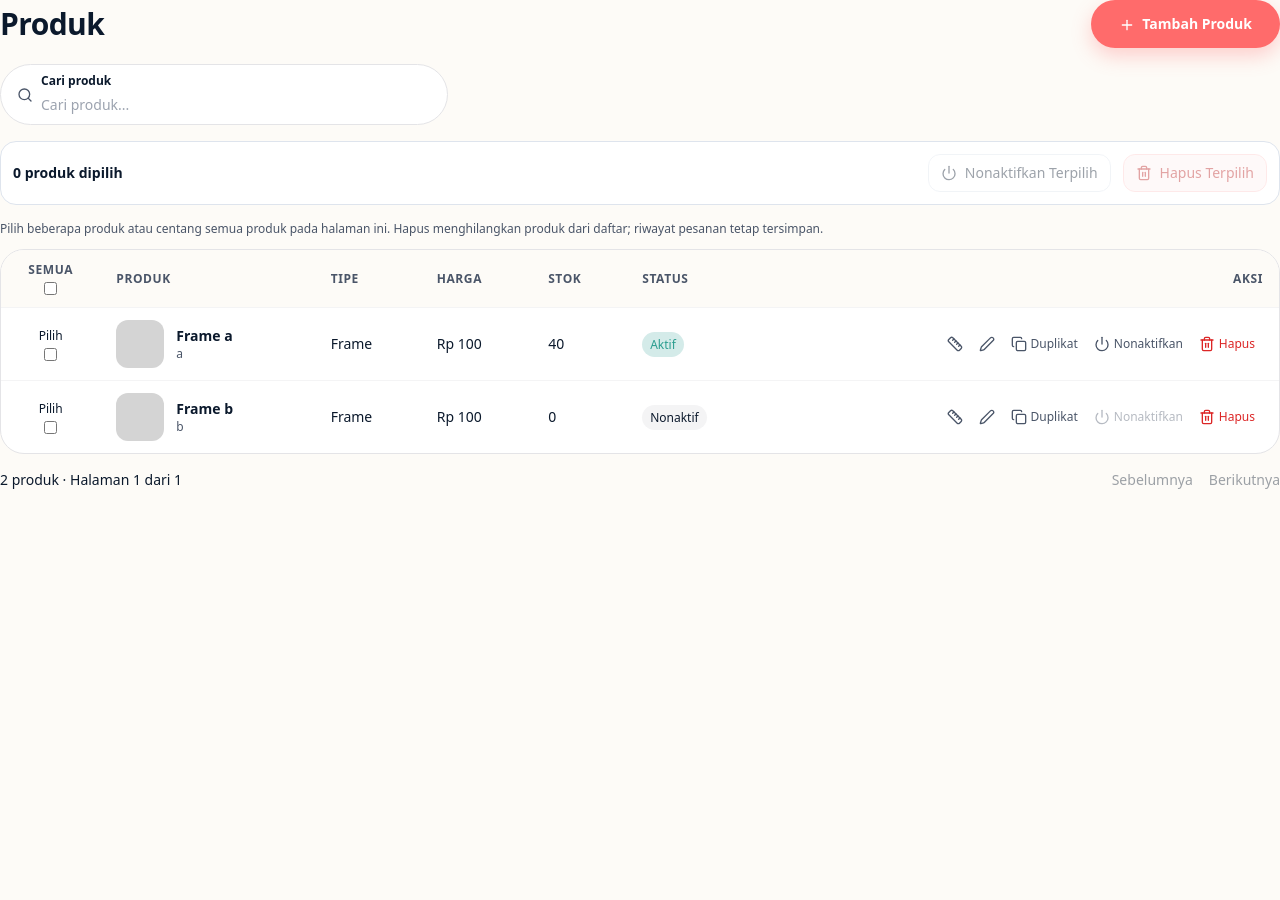
Test case: inactive variants are identified and can be activated without changing their SKU or stock
Later steps or results of the test are not shown.
Step 1. Click the button with test id "edit-a" → (986, 344), box [970, 328, 1002, 360]
(page scrolled)
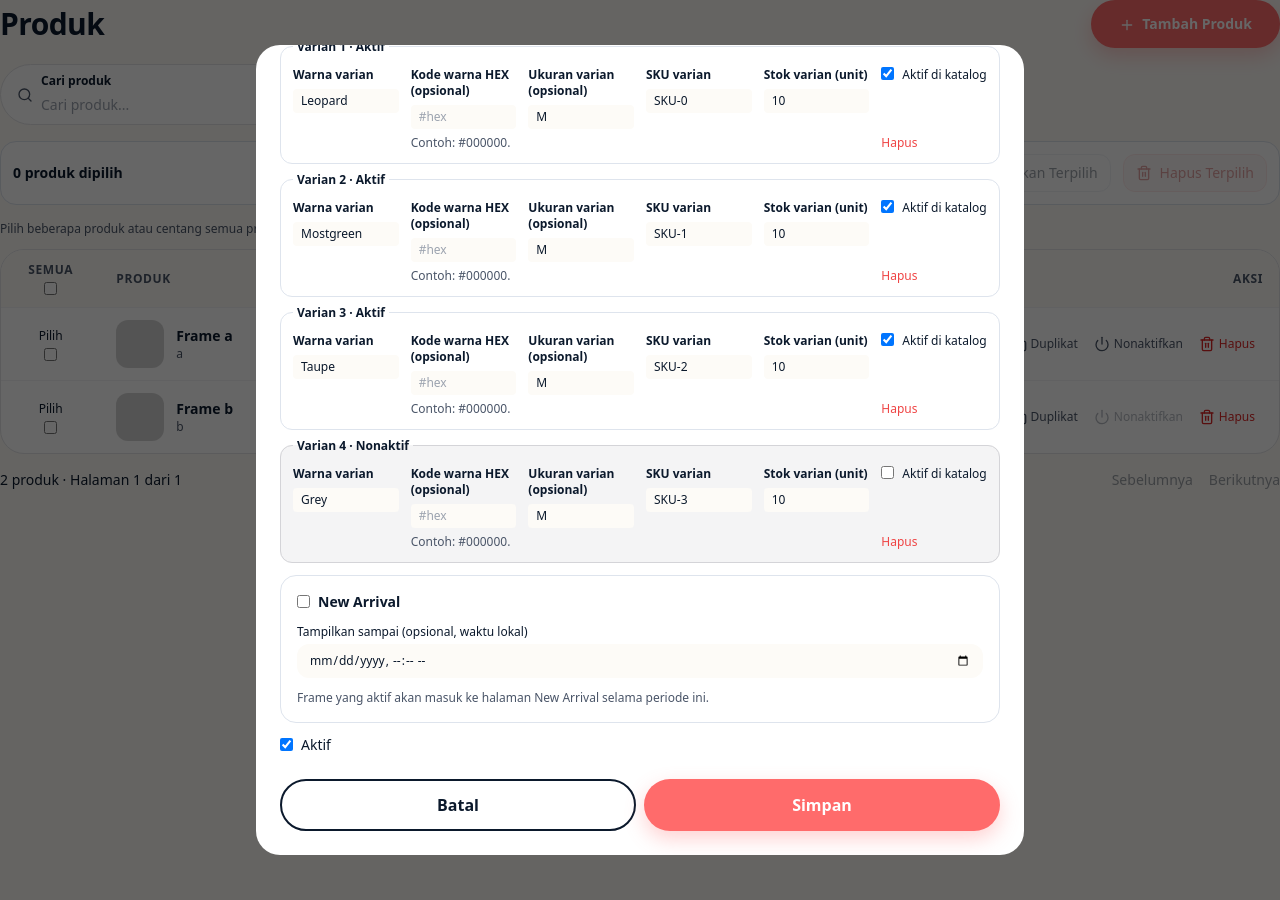
Now the text "Varian 4 · Nonaktif" is shown, box [293, 438, 413, 454]
Now the checkbox with test id "pf-variant-active-3" is not checked, box [881, 466, 894, 478]
